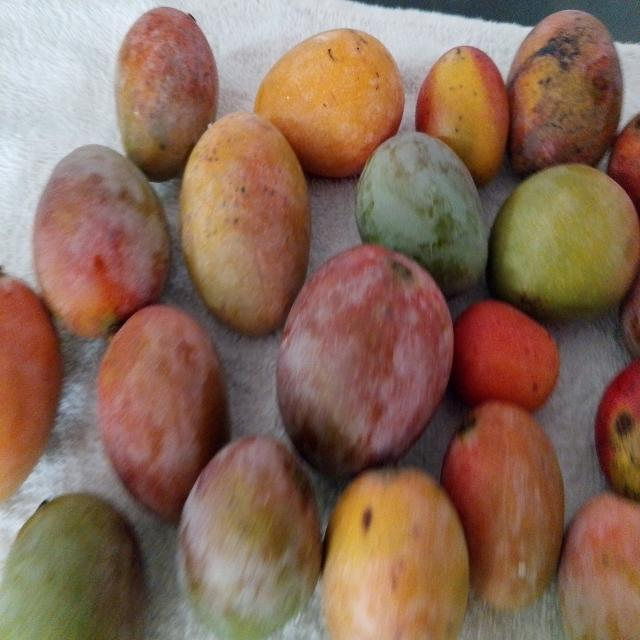mango: (276, 245, 453, 475), (180, 112, 310, 335), (179, 437, 321, 639), (97, 305, 227, 520), (33, 145, 170, 337), (442, 401, 564, 614), (322, 469, 469, 639), (488, 165, 639, 320), (254, 29, 404, 177), (356, 132, 487, 296), (0, 494, 145, 639), (507, 10, 622, 177), (116, 7, 218, 181), (0, 269, 62, 501), (415, 46, 509, 188), (454, 299, 560, 412), (558, 492, 639, 639)
